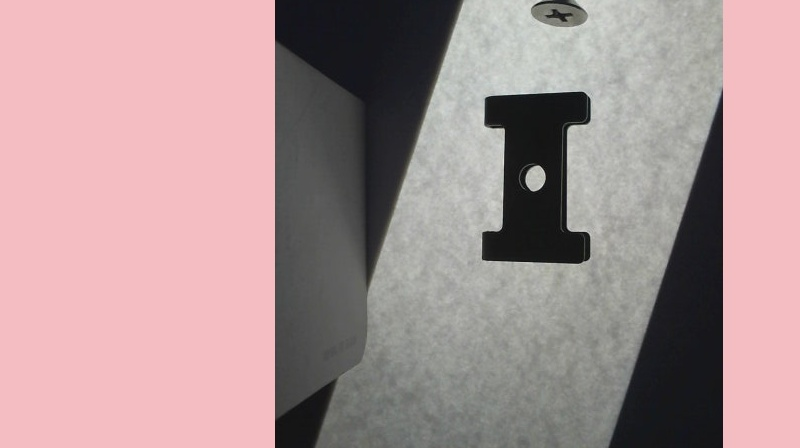O002: (479, 89, 595, 265)
S001: (532, 0, 594, 28)
